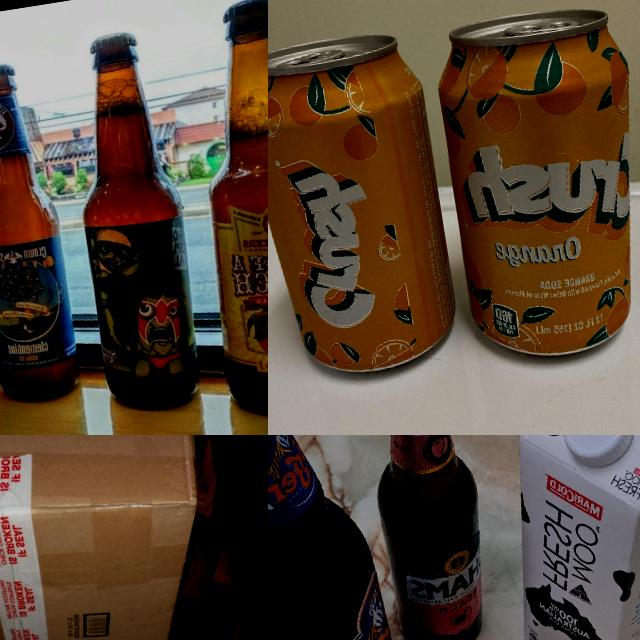caixinha: (487, 435, 640, 640)
garrafa de vidro: (50, 26, 215, 417), (171, 0, 268, 427), (0, 58, 86, 406), (268, 435, 406, 640), (365, 435, 502, 640), (561, 435, 640, 471)
lata: (422, 0, 640, 370), (268, 23, 467, 392)
papelão: (0, 435, 242, 640)
